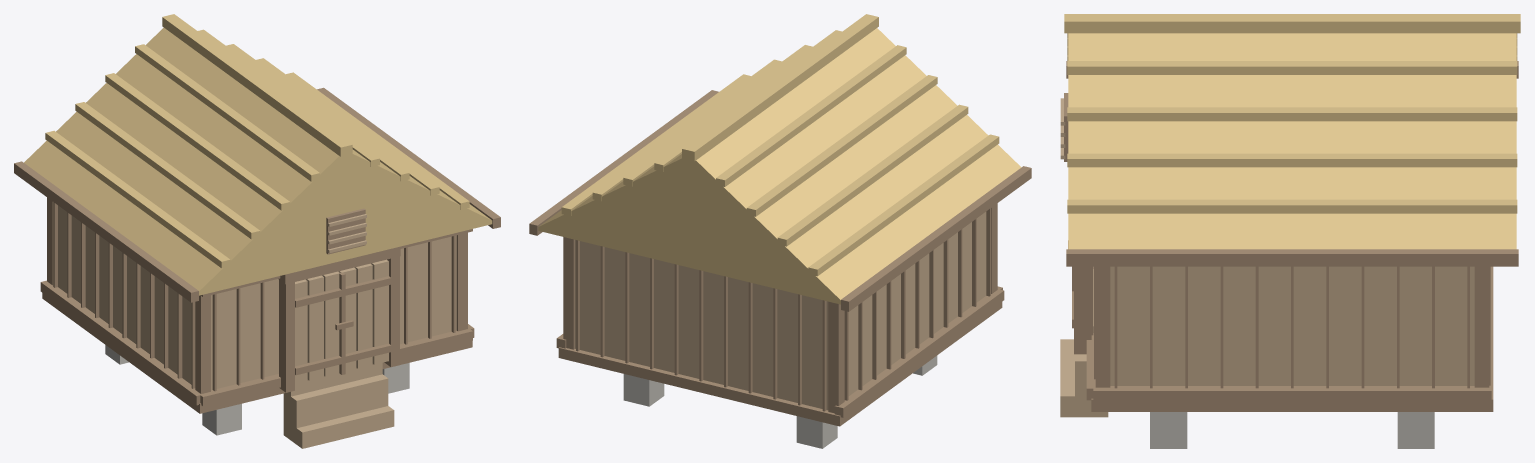
File: granary.glb
3 renders of one model, left to right at view 1: azimuth 30°, elevation 25°; view 2: azimuth 150°, elevation 25°; view 3: azimuth 270°, elevation 25°, orthographic. The views are drawn at different scales.
Visible parts, largest first — view 1: granary_roof, granary_wood, granary_frame, granary_stone; view 2: granary_roof, granary_wood, granary_frame, granary_stone; view 3: granary_roof, granary_wood, granary_frame, granary_stone.
Part boxes in pixels (x1,y1,x2,y2): granary_roof: (24,14,492,295); granary_wood: (58,205,456,448); granary_frame: (14,87,500,413); granary_stone: (105,345,409,435); granary_roof: (538,14,1021,304); granary_wood: (575,212,986,410); granary_frame: (529,90,1031,426); granary_stone: (623,355,937,448); granary_roof: (1064,14,1520,249); granary_wood: (1060,98,1474,417); granary_frame: (1064,61,1518,411); granary_stone: (1150,412,1434,448).
Bounding box in the file's own units: 1.97 × 1.77 × 1.98.
